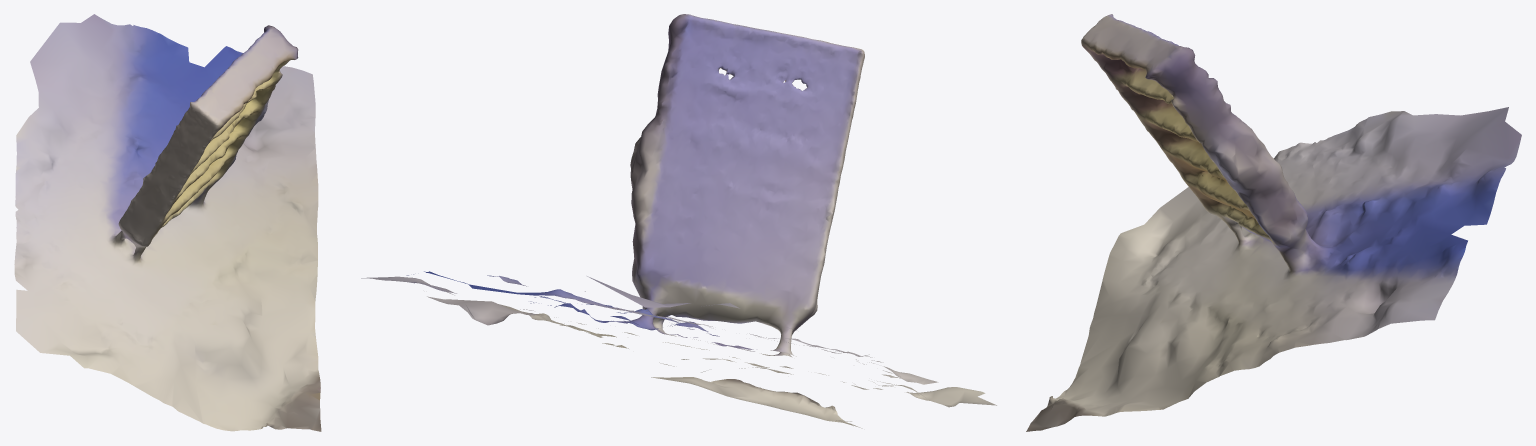
File: library model.glb
3 renders of one model, left to right at view 1: azimuth 30°, elevation 25°; view 2: azimuth 150°, elevation 25°; view 3: azimuth 270°, elevation 25°, orthographic. The views are drawn at different scales.
Size of the model in its own units: 6.75 by 5.58 by 6.34.
